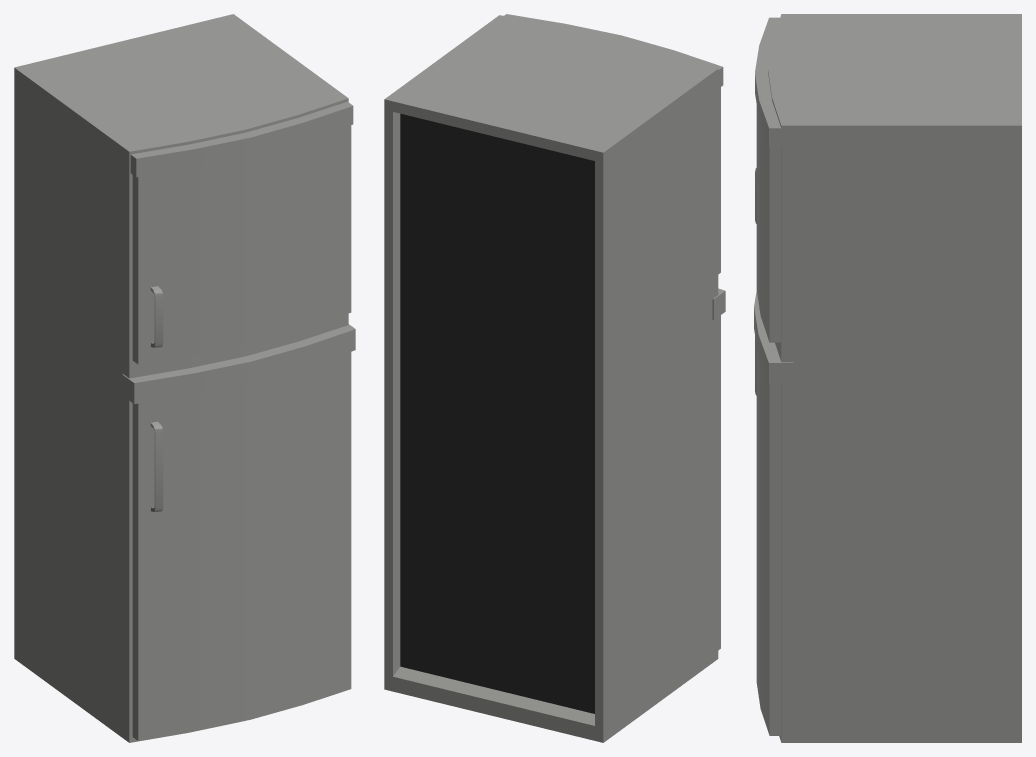
Rendered from Kitchen_Fridge.glb.
The picture shows the model from 3 angles, left to right: view 1: azimuth 30°, elevation 25°; view 2: azimuth 150°, elevation 25°; view 3: azimuth 270°, elevation 25°; orthographic projection. The views are drawn at different scales.
Parts seen in each view (by area): view 1: Kitchen_Fridge; view 2: Kitchen_Fridge; view 3: Kitchen_Fridge.
Boxes of the visible parts, bbox=[...] form: Kitchen_Fridge: bbox=[14, 14, 355, 742]; Kitchen_Fridge: bbox=[384, 14, 725, 742]; Kitchen_Fridge: bbox=[754, 14, 1021, 742].
Bounding box in the file's own units: 0.6345 × 1.62 × 0.6366.
2 materials, 2 textured.
